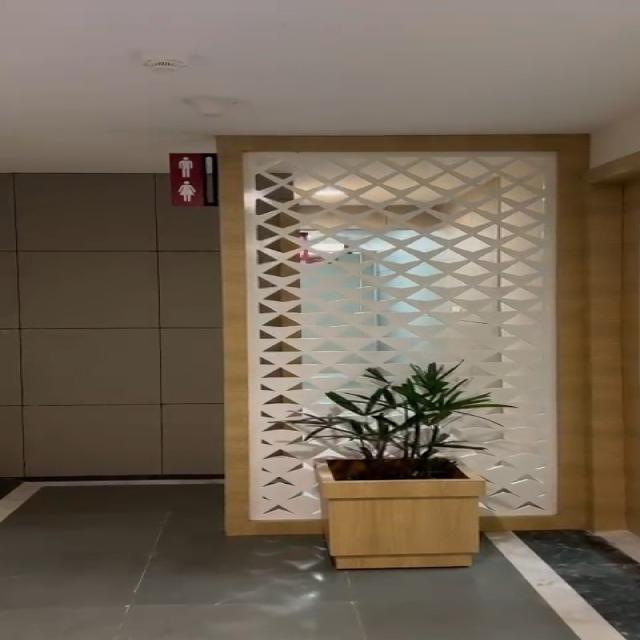floor: (0, 479, 234, 640), (235, 563, 640, 640)
furniture: (286, 370, 500, 573)
